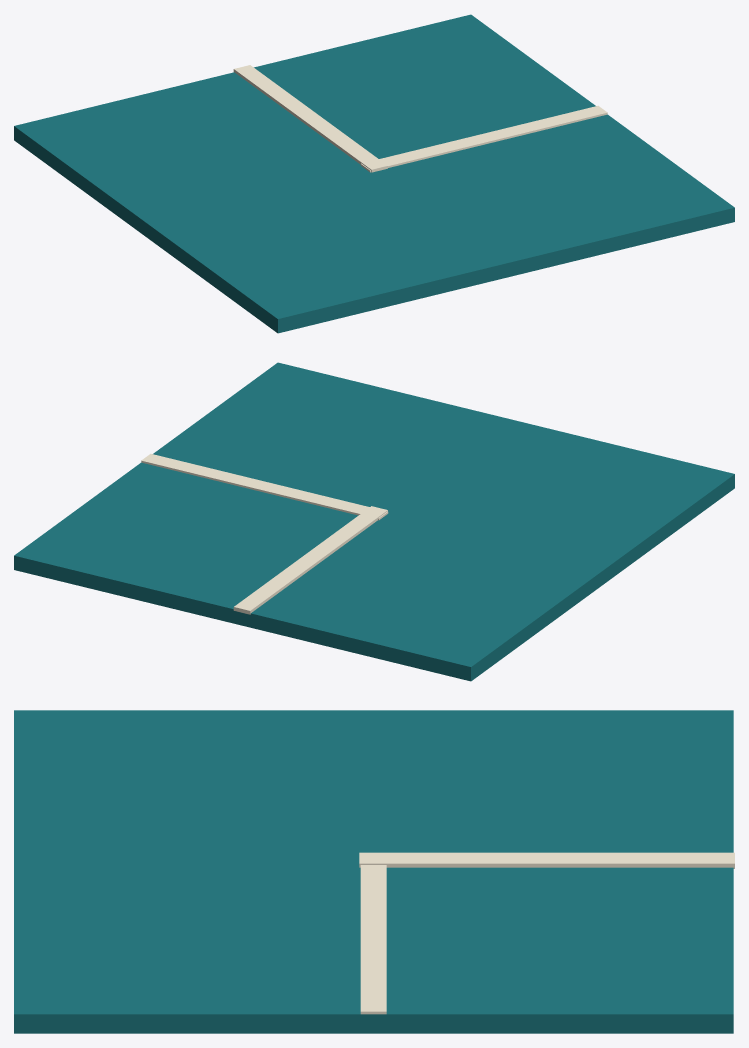
File: court_tile_corner.glb
3 views of the same model, one above another, from view 1: azimuth 30°, elevation 25°; view 2: azimuth 150°, elevation 25°; view 3: azimuth 270°, elevation 25° (orthographic). The views are drawn at different scales.
Parts seen in each view (by area): view 1: court_tile_corner; view 2: court_tile_corner; view 3: court_tile_corner.
Boxes of the visible parts, left/top/right/bottom form: court_tile_corner: left=14, top=14, right=734, bottom=333; court_tile_corner: left=14, top=362, right=734, bottom=681; court_tile_corner: left=14, top=710, right=734, bottom=1033.
Bounding box in the file's own units: 2 × 0.072 × 2.
